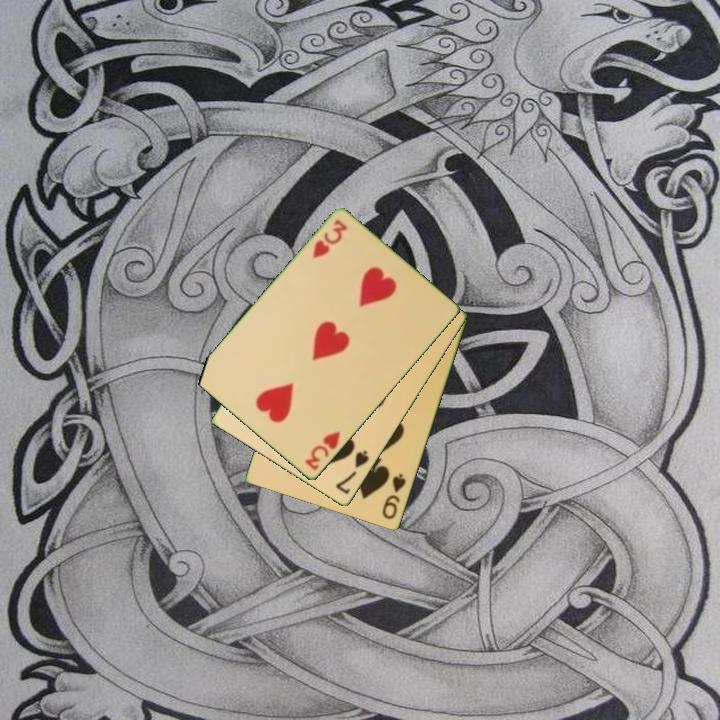3h: (301, 428, 343, 474), (309, 216, 351, 262)
7s: (332, 447, 372, 498)
9s: (379, 470, 409, 523)
